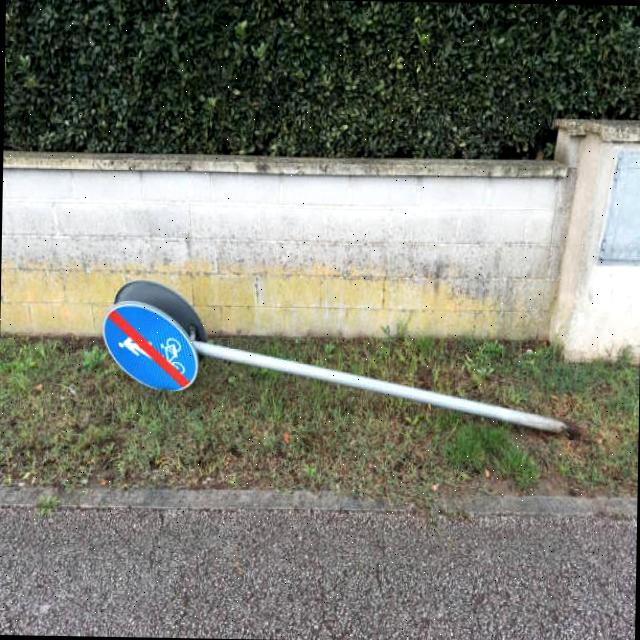Broken Pole: (97, 274, 590, 458)
